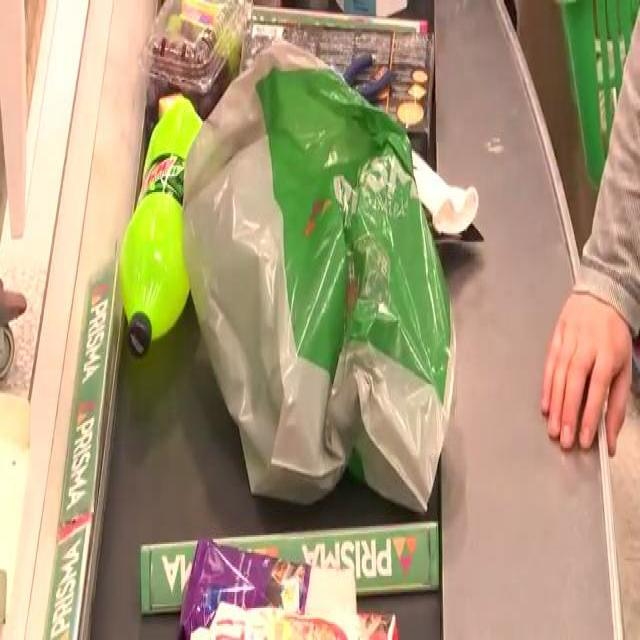beverage: (138, 102, 208, 367)
food-box: (241, 24, 444, 140)
fruit: (149, 0, 244, 108)
utility-box: (205, 95, 436, 490)
